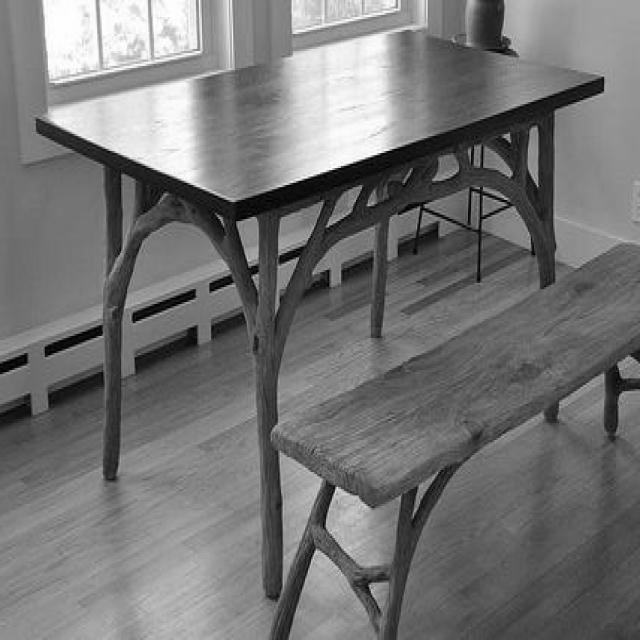table: (37, 26, 604, 594)
